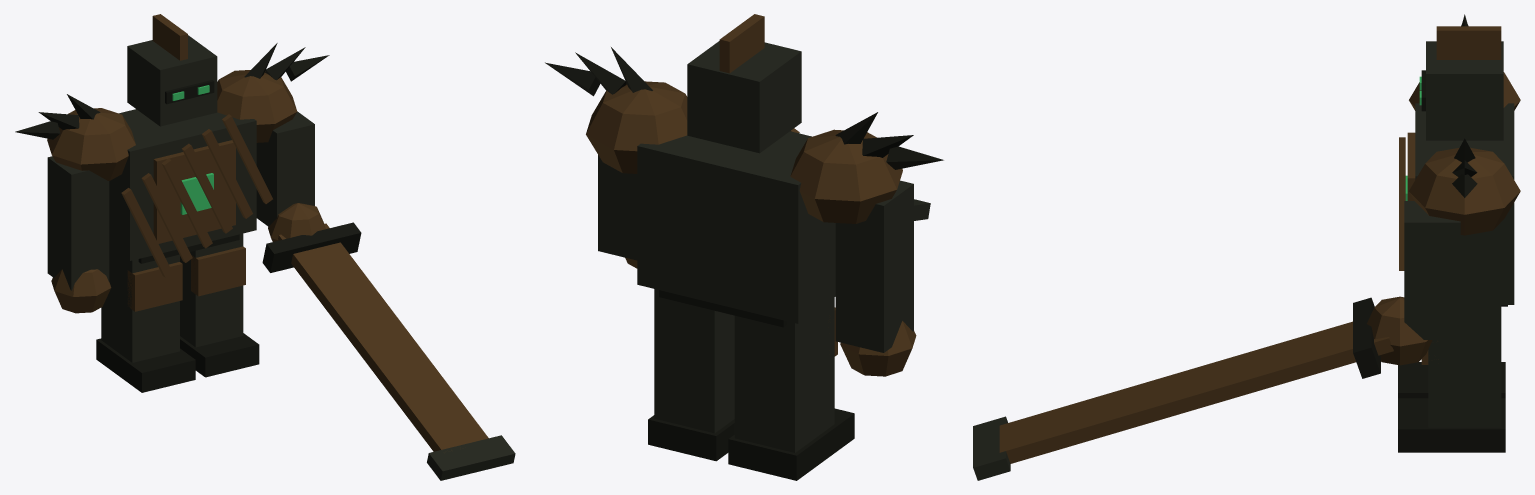
Rendered from SM_Champion_9010_Soul.glb.
3 views of the same model, side by side, from view 1: azimuth 30°, elevation 25°; view 2: azimuth 150°, elevation 25°; view 3: azimuth 270°, elevation 25° (orthographic). The views are drawn at different scales.
Parts seen in each view (by area): view 1: SM_Champion_9010_Soul; view 2: SM_Champion_9010_Soul; view 3: SM_Champion_9010_Soul.
Boxes of the visible parts, left/top/right/bottom form: SM_Champion_9010_Soul: left=15, top=14, right=515, bottom=480; SM_Champion_9010_Soul: left=545, top=14, right=943, bottom=480; SM_Champion_9010_Soul: left=973, top=14, right=1520, bottom=480.
Size of the model in its own units: 1.81 by 1.82 by 2.31.
